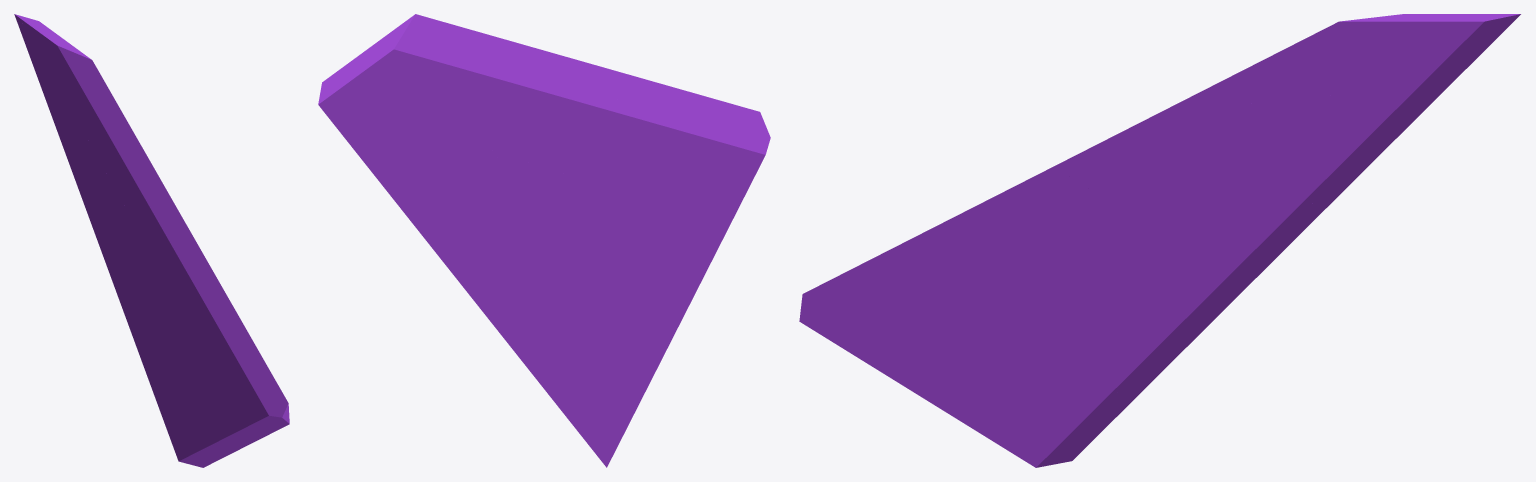
File: Window_42_9_chunks.fbx
The picture shows the model from 3 angles, left to right: view 1: azimuth 30°, elevation 25°; view 2: azimuth 150°, elevation 25°; view 3: azimuth 270°, elevation 25°; orthographic projection. The views are drawn at different scales.
Parts seen in each view (by area): view 1: Window_42_9_0, Window_42_9_7, Window_42_9_4, Window_42_9_5, Window_42_9_9, Window_42_9_2, Window_42_9_8, Window_42_9_3, Window_42_9_6; view 2: Window_42_9_0, Window_42_9_7, Window_42_9_9, Window_42_9_4, Window_42_9_5, Window_42_9_2, Window_42_9_8, Window_42_9_3, Window_42_9_6; view 3: Window_42_9_0, Window_42_9_7, Window_42_9_9, Window_42_9_5, Window_42_9_8, Window_42_9_4, Window_42_9_3, Window_42_9_1, Window_42_9_2.
Boxes of the visible parts, x1,y1,x2,y2 form: Window_42_9_0: [160, 265, 289, 467]; Window_42_9_7: [84, 197, 163, 410]; Window_42_9_4: [105, 129, 196, 272]; Window_42_9_5: [24, 18, 131, 141]; Window_42_9_9: [14, 14, 101, 204]; Window_42_9_2: [19, 17, 109, 174]; Window_42_9_8: [113, 191, 164, 302]; Window_42_9_3: [107, 164, 173, 275]; Window_42_9_6: [100, 162, 116, 207]; Window_42_9_0: [574, 74, 770, 467]; Window_42_9_7: [441, 190, 580, 426]; Window_42_9_9: [318, 91, 472, 259]; Window_42_9_4: [479, 34, 617, 147]; Window_42_9_5: [320, 14, 484, 94]; Window_42_9_2: [324, 91, 485, 147]; Window_42_9_8: [492, 152, 581, 227]; Window_42_9_3: [482, 122, 598, 178]; Window_42_9_6: [468, 143, 497, 200]; Window_42_9_0: [799, 189, 1122, 467]; Window_42_9_7: [1109, 184, 1329, 410]; Window_42_9_9: [1268, 14, 1520, 204]; Window_42_9_5: [1231, 14, 1502, 115]; Window_42_9_8: [1107, 139, 1270, 277]; Window_42_9_4: [1054, 76, 1254, 187]; Window_42_9_3: [1087, 108, 1281, 213]; Window_42_9_1: [1009, 166, 1125, 235]; Window_42_9_2: [1277, 14, 1506, 131].
Bounding box in the file's own units: 27.2 × 748 × 1095.
